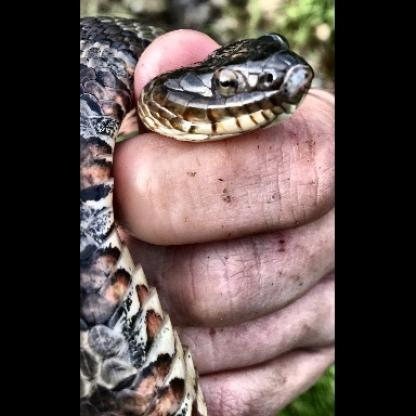Snake: (80, 0, 312, 414)
